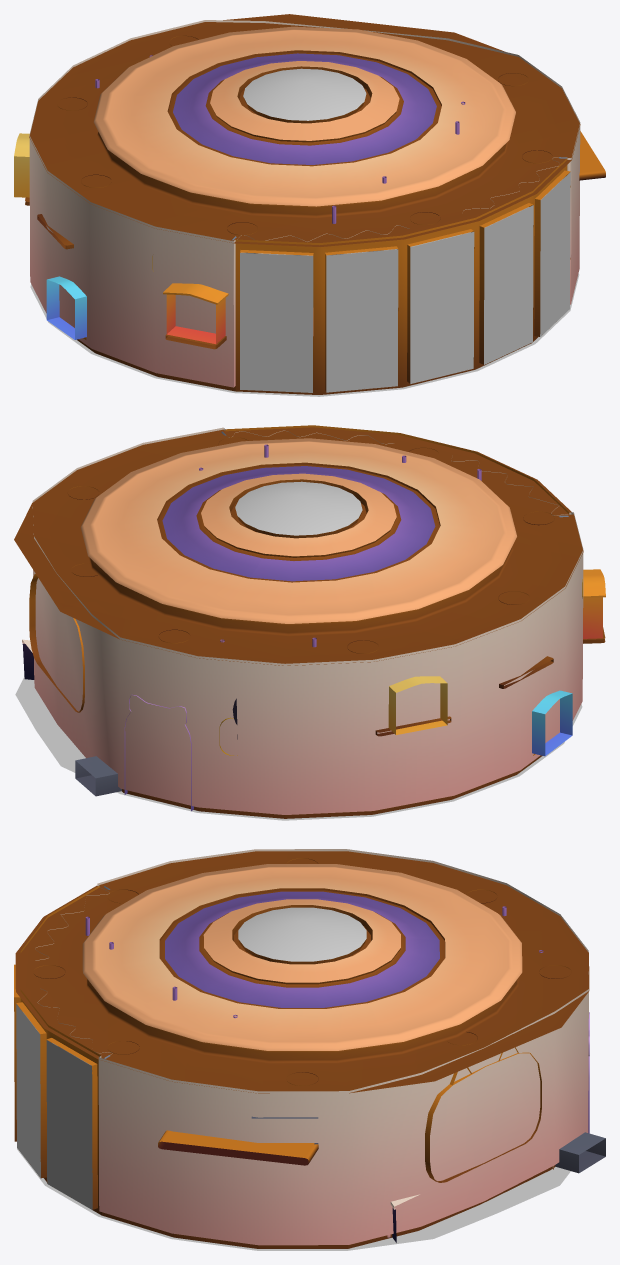
Rendered from Cafe3.fbx.
3 renders of one model, top to bottom at view 1: azimuth 30°, elevation 25°; view 2: azimuth 150°, elevation 25°; view 3: azimuth 270°, elevation 25°, orthographic. The views are drawn at different scales.
Visible parts, largest first — view 1: Roof, Wall1, Windows, Cat_Box6, Floor, Cat_Box3, Cat_Box7, Platform, Curtains; view 2: Roof, Wall1, Floor, Cat_Box3, Cat_Box6, Cat_Box7, Vent, Cat_Box5; view 3: Roof, Wall1, Windows, Floor, Platform, Vent, Cat_Box5.
Boxes of the visible parts, x1,y1,x2,y2 form: Roof: [29, 14, 580, 246]; Wall1: [29, 20, 580, 394]; Windows: [240, 172, 570, 392]; Cat_Box6: [163, 283, 228, 344]; Floor: [30, 234, 579, 396]; Cat_Box3: [46, 276, 86, 339]; Cat_Box7: [14, 133, 29, 197]; Platform: [563, 131, 605, 180]; Curtains: [237, 157, 562, 335]; Roof: [14, 427, 583, 665]; Wall1: [32, 425, 583, 818]; Floor: [15, 677, 582, 820]; Cat_Box3: [532, 690, 572, 756]; Cat_Box6: [583, 569, 605, 638]; Cat_Box7: [388, 676, 447, 734]; Vent: [75, 756, 121, 796]; Cat_Box5: [29, 574, 84, 712]; Roof: [15, 851, 589, 1093]; Wall1: [14, 849, 588, 1248]; Windows: [16, 1004, 92, 1209]; Floor: [17, 1148, 570, 1250]; Platform: [158, 1130, 318, 1165]; Vent: [555, 1132, 605, 1173]; Cat_Box5: [425, 1047, 541, 1182].
Size of the model in its own units: 1897 by 716 by 1799.
